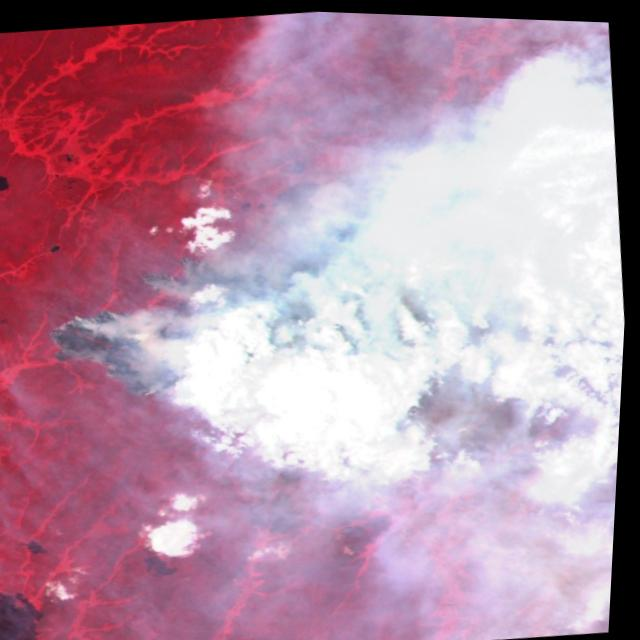fire: (40, 189, 489, 416)
